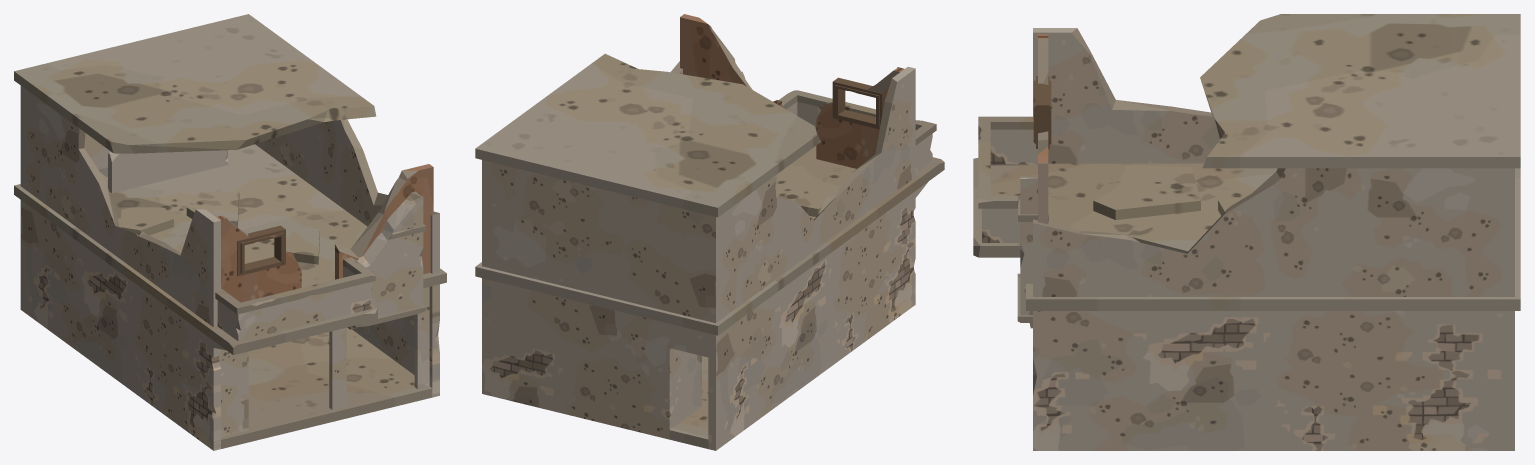
Rendered from SM_Bld_Shop_09_Destroyed.fbx.
3 renders of one model, left to right at view 1: azimuth 30°, elevation 25°; view 2: azimuth 150°, elevation 25°; view 3: azimuth 270°, elevation 25°, orthographic. The views are drawn at different scales.
Visible parts, largest first — view 1: SM_Bld_Shop_09_Destroyed; view 2: SM_Bld_Shop_09_Destroyed; view 3: SM_Bld_Shop_09_Destroyed.
Boxes of the visible parts, x1,y1,x2,y2 form: SM_Bld_Shop_09_Destroyed: [14, 14, 446, 450]; SM_Bld_Shop_09_Destroyed: [475, 14, 944, 450]; SM_Bld_Shop_09_Destroyed: [973, 14, 1520, 450].
Bounding box in the file's own units: 702 × 679 × 1136.
